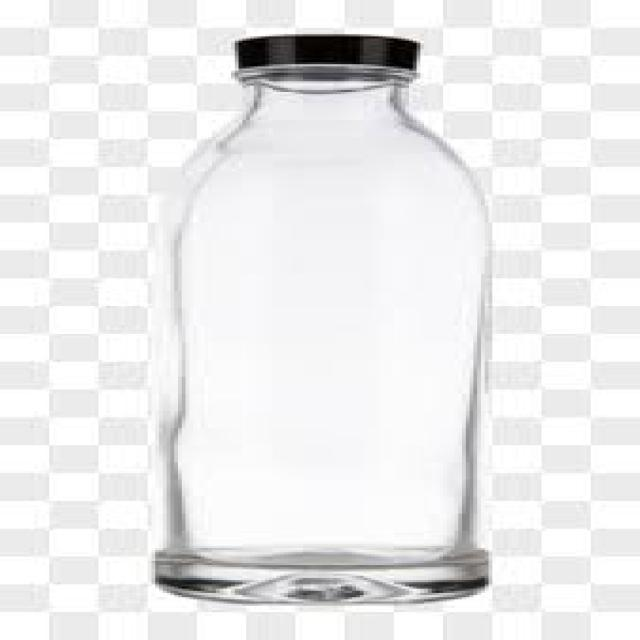glass: (144, 64, 485, 604)
metal: (231, 30, 417, 66)
